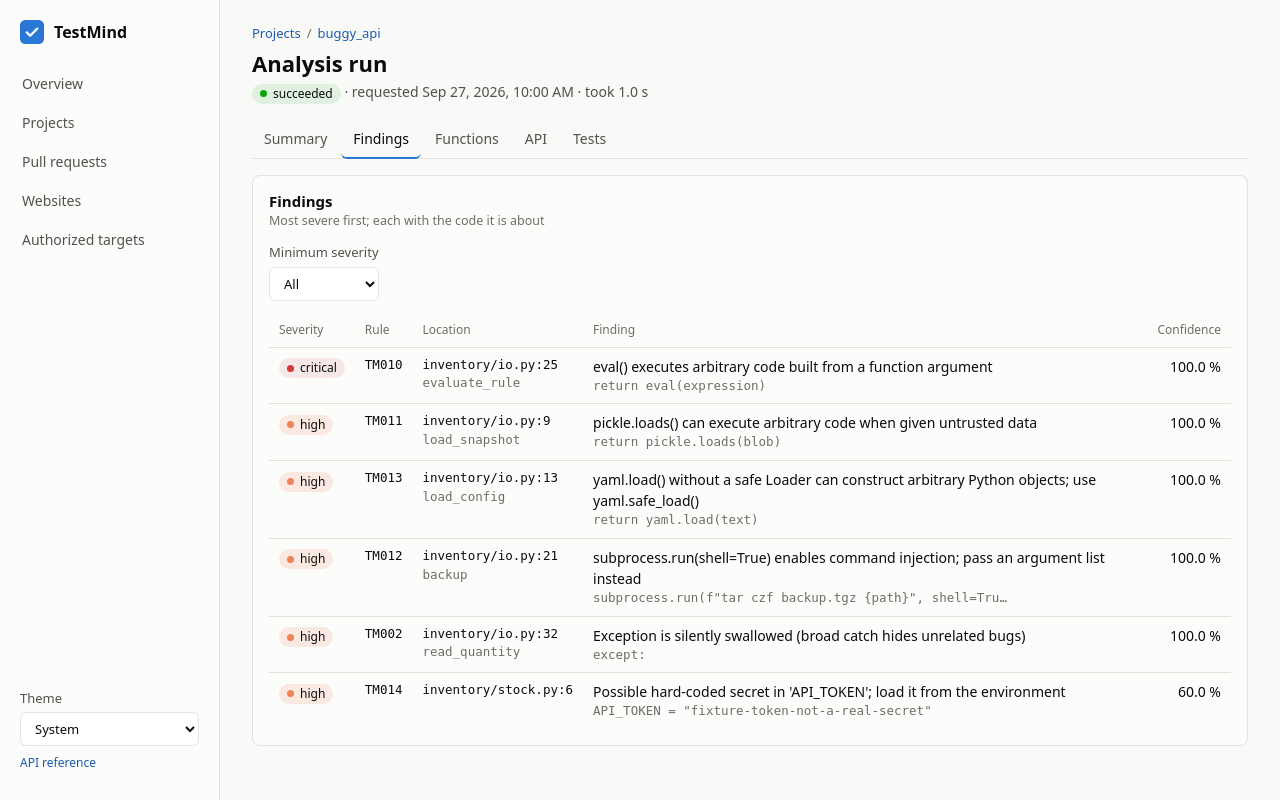
Scenario: Run › filters findings and lists functions
Select "critical" in the dropdown labelled "Minimum severity" at [324, 284], box x1=269 y1=266 x2=378 y2=300
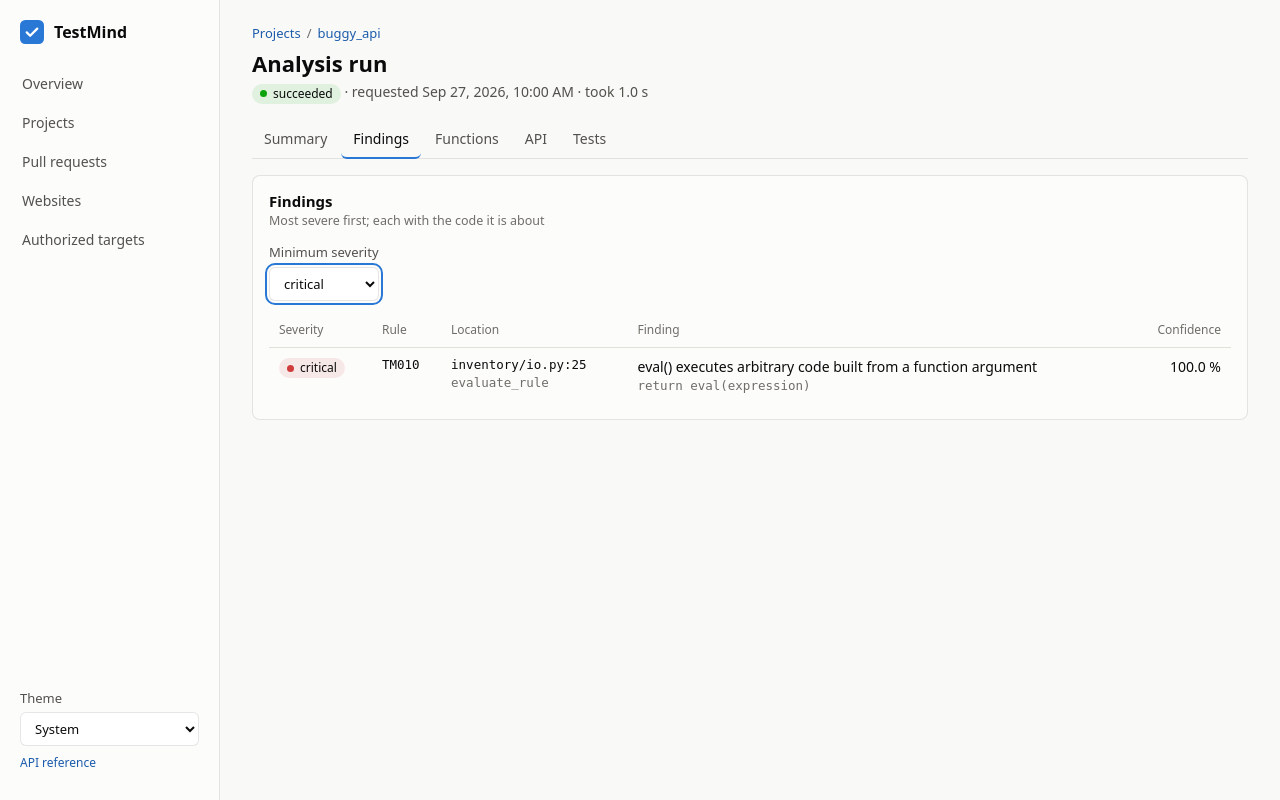
Result: the number of rows is 2 at x1=269 y1=312 x2=1231 y2=347; x1=269 y1=347 x2=1231 y2=403
Click the tab "Functions" at [467, 139], box x1=423 y1=120 x2=511 y2=158
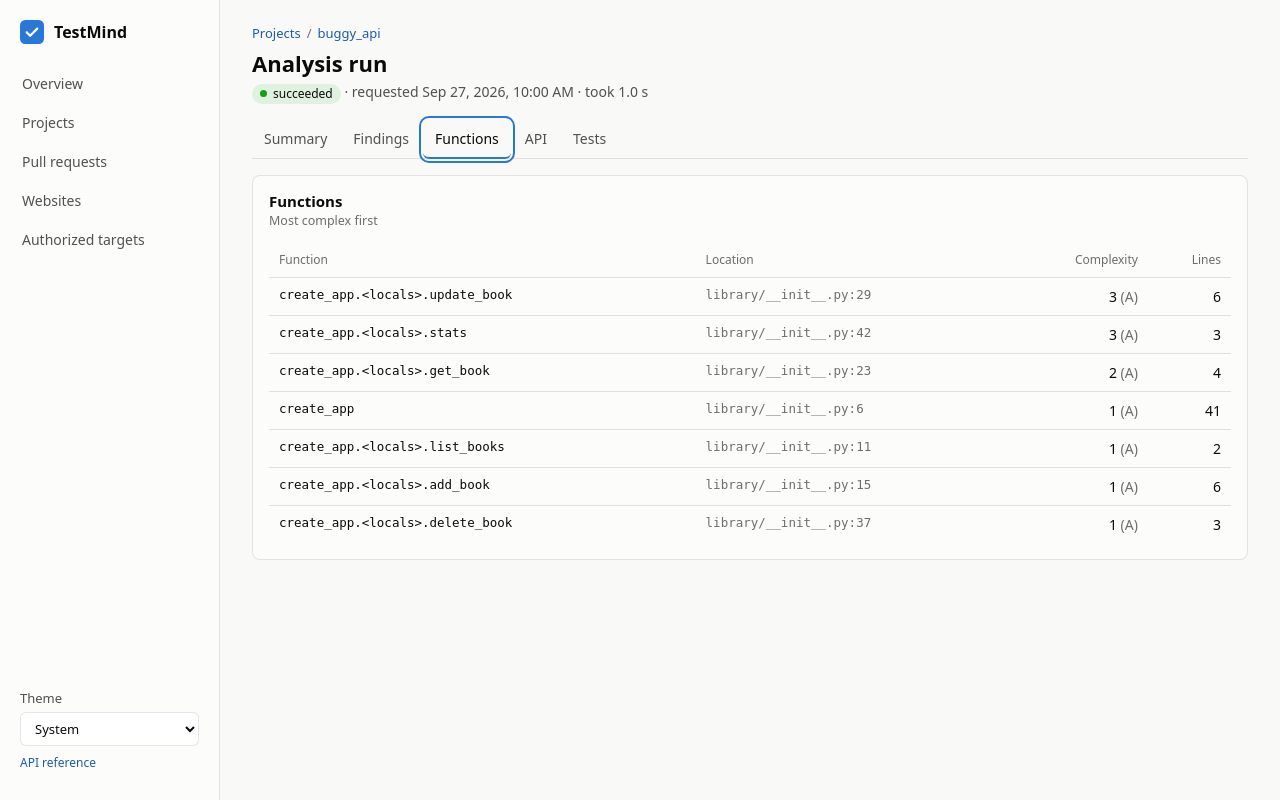
Result: the text "create_app.<locals>.update_book" is shown at x1=269 y1=278 x2=696 y2=316
